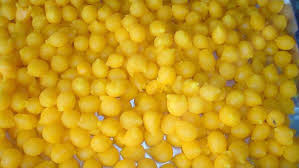tongyod: (52, 90, 83, 124), (148, 20, 175, 50), (116, 15, 146, 42), (94, 94, 125, 119), (162, 89, 189, 117), (145, 137, 173, 162), (117, 140, 148, 162), (45, 28, 73, 51), (218, 40, 239, 68), (215, 106, 243, 127), (209, 128, 229, 157), (21, 133, 45, 157), (197, 43, 218, 70), (17, 44, 44, 64), (120, 110, 144, 130), (123, 56, 148, 73), (93, 54, 110, 78), (225, 86, 245, 106), (157, 49, 179, 66), (104, 82, 128, 96), (75, 61, 92, 77)
